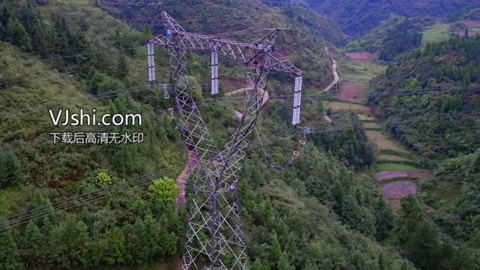tower_body: (139, 7, 307, 270)
tower_foot: (180, 224, 247, 270)
tower_head: (142, 9, 304, 185)
